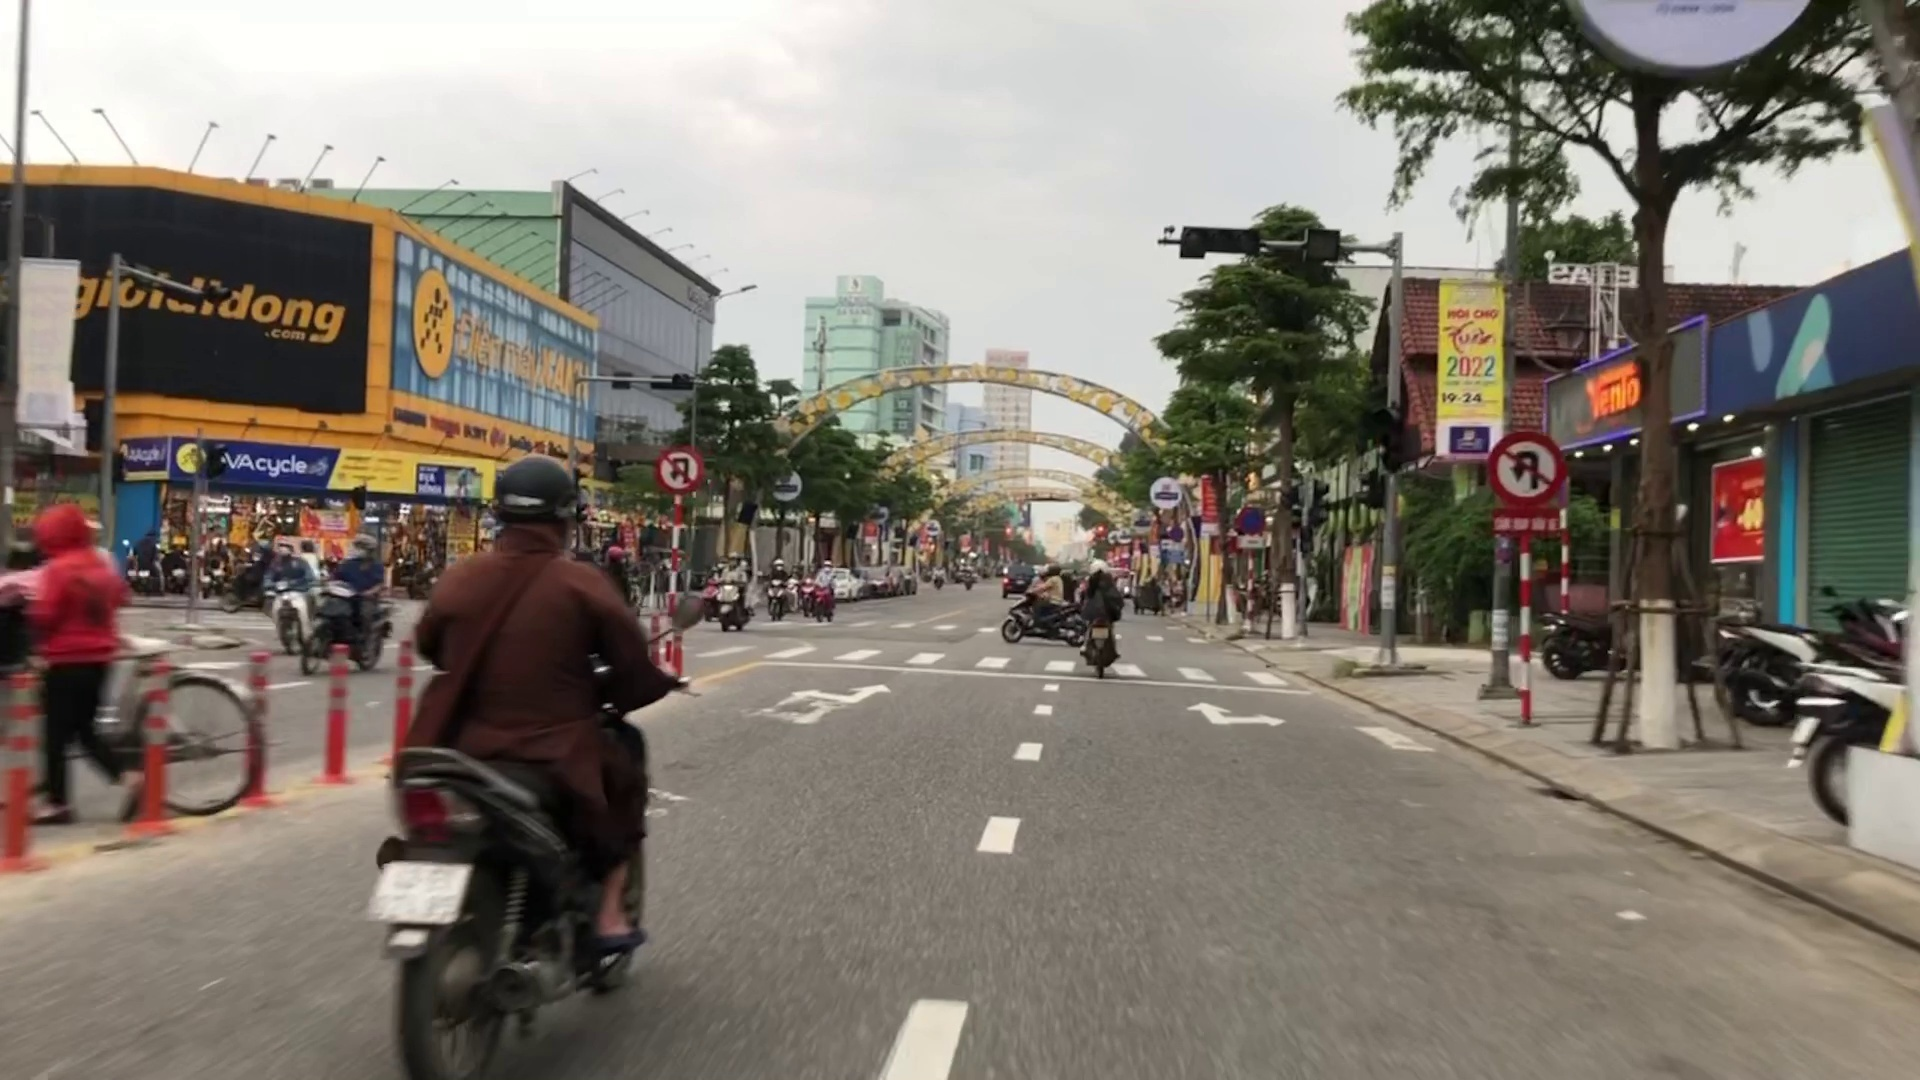Bien khac: (1485, 429, 1567, 504), (661, 446, 702, 493)
Cam do xe: (1233, 502, 1267, 531)
